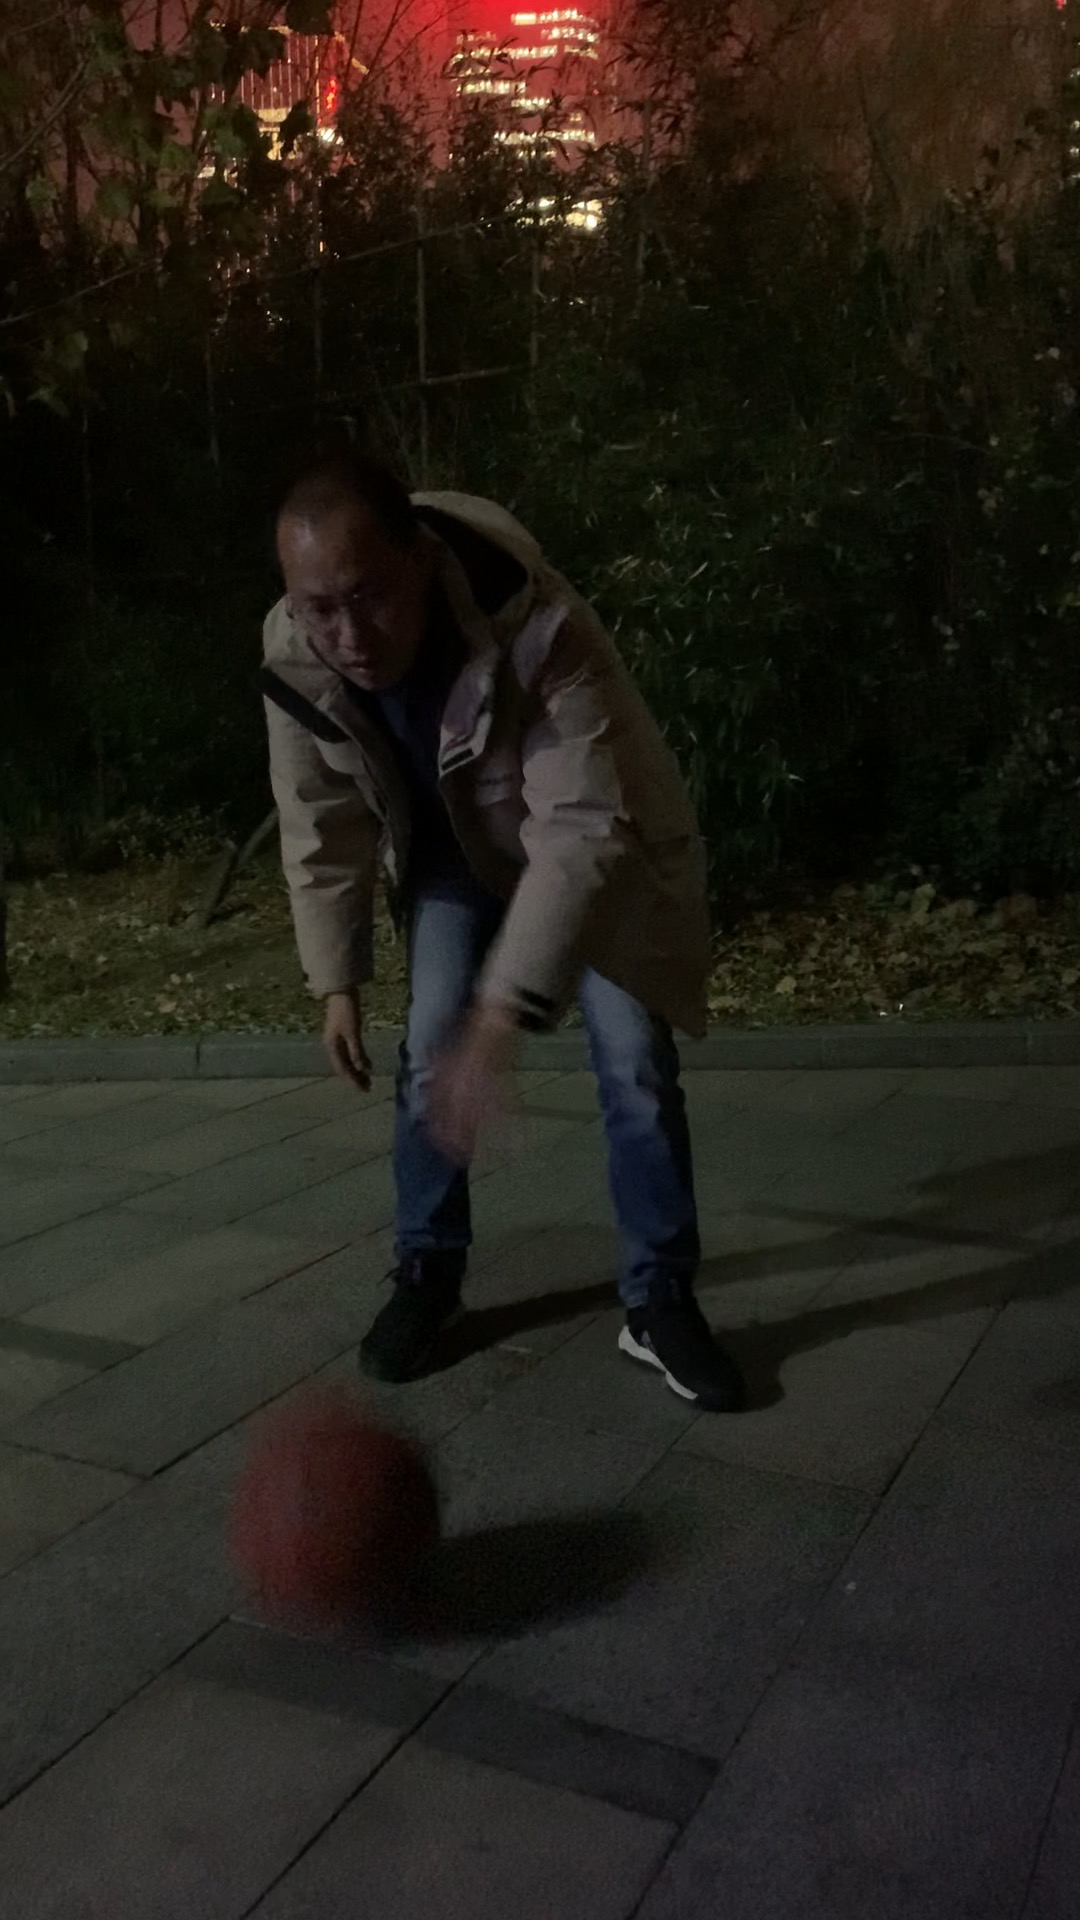ball: (222, 1414, 444, 1635)
